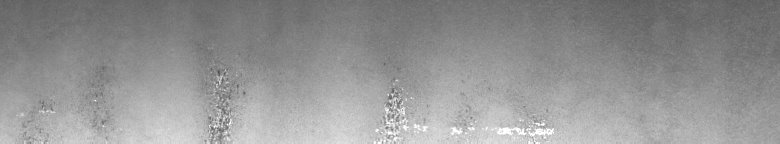hc: (197, 61, 246, 136)
